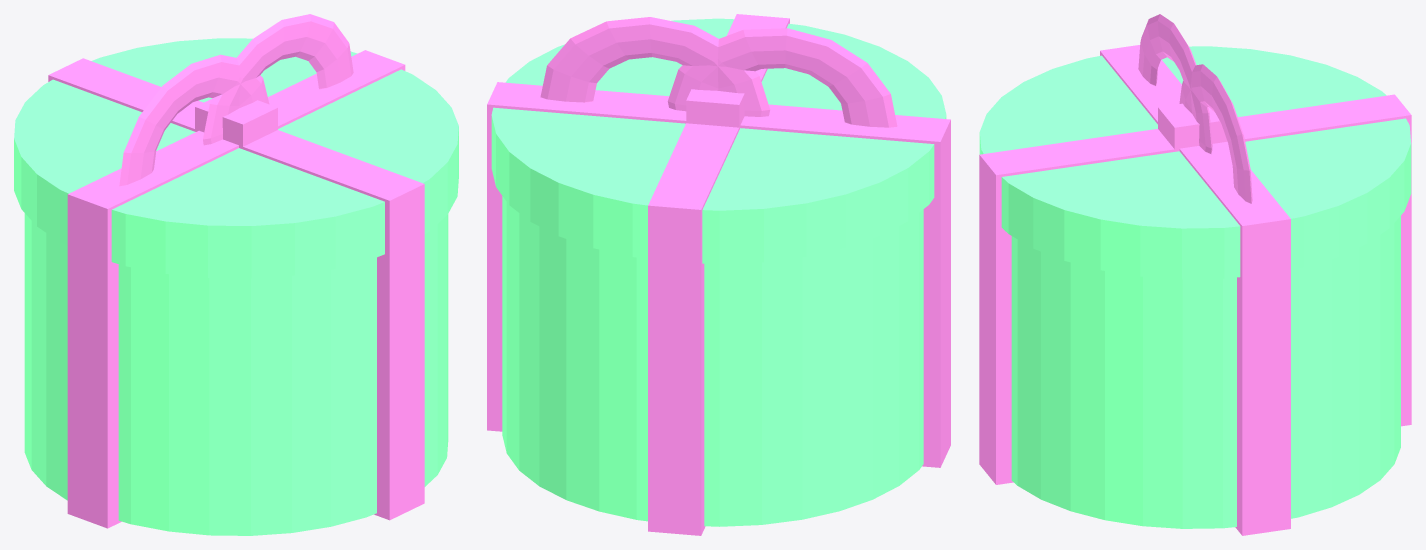
Rendered from Tmpl_Round_Root_233.glb.
3 views of the same model, side by side, from view 1: azimuth 30°, elevation 25°; view 2: azimuth 150°, elevation 25°; view 3: azimuth 270°, elevation 25° (orthographic). The views are drawn at different scales.
Parts seen in each view (by area): view 1: Tmpl_Round_Base.231, Tmpl_Round_Lid.231, Tmpl_Round_Ribbon_X.231, Tmpl_Round_Ribbon_Y.231, Tmpl_Round_BowR.231, Tmpl_Round_BowL.231, Tmpl_Round_BowKnot.231; view 2: Tmpl_Round_Base.231, Tmpl_Round_Lid.231, Tmpl_Round_Ribbon_Y.231, Tmpl_Round_Ribbon_X.231, Tmpl_Round_BowR.231, Tmpl_Round_BowL.231, Tmpl_Round_BowKnot.231; view 3: Tmpl_Round_Base.231, Tmpl_Round_Lid.231, Tmpl_Round_Ribbon_X.231, Tmpl_Round_Ribbon_Y.231, Tmpl_Round_BowL.231, Tmpl_Round_BowR.231, Tmpl_Round_BowKnot.231.
Boxes of the visible parts, x1,y1,x2,y2 form: Tmpl_Round_Base.231: (24, 213, 448, 535); Tmpl_Round_Lid.231: (14, 38, 458, 278); Tmpl_Round_Ribbon_X.231: (67, 50, 405, 528); Tmpl_Round_Ribbon_Y.231: (48, 58, 424, 520); Tmpl_Round_BowR.231: (203, 14, 353, 145); Tmpl_Round_BowL.231: (119, 54, 269, 186); Tmpl_Round_BowKnot.231: (195, 98, 277, 148); Tmpl_Round_Base.231: (502, 196, 923, 526); Tmpl_Round_Lid.231: (491, 18, 946, 264); Tmpl_Round_Ribbon_Y.231: (648, 14, 789, 535); Tmpl_Round_Ribbon_X.231: (487, 82, 950, 467); Tmpl_Round_BowR.231: (540, 17, 769, 116); Tmpl_Round_BowL.231: (667, 28, 897, 127); Tmpl_Round_BowKnot.231: (686, 89, 744, 129); Tmpl_Round_Base.231: (1011, 216, 1400, 528); Tmpl_Round_Lid.231: (979, 46, 1411, 279); Tmpl_Round_Ribbon_X.231: (1100, 45, 1290, 535); Tmpl_Round_Ribbon_Y.231: (979, 94, 1411, 484); Tmpl_Round_BowL.231: (1138, 14, 1212, 153); Tmpl_Round_BowR.231: (1179, 64, 1252, 203); Tmpl_Round_BowKnot.231: (1158, 103, 1227, 151).
Bounding box in the file's own units: 0.8449 × 0.8519 × 0.8449.
